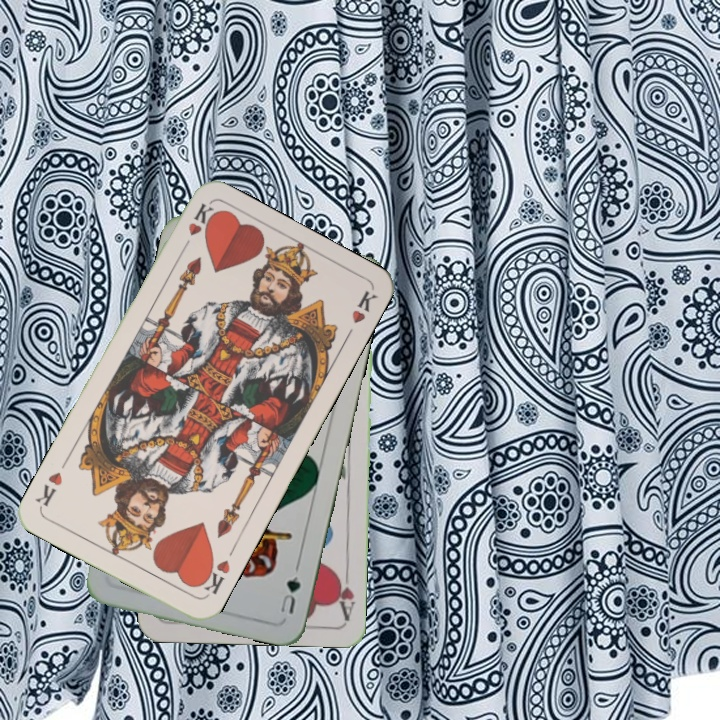GU: (276, 572, 303, 616)
HA: (331, 562, 357, 621)
HK: (176, 199, 216, 255), (194, 555, 233, 599)
